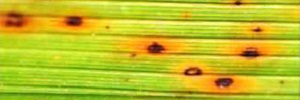RiceBrownSpot: (176, 61, 243, 100), (1, 8, 93, 36), (129, 33, 187, 58), (239, 19, 272, 59), (226, 1, 247, 10)
